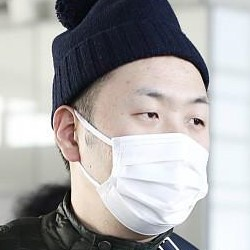mask: (66, 108, 211, 236)
